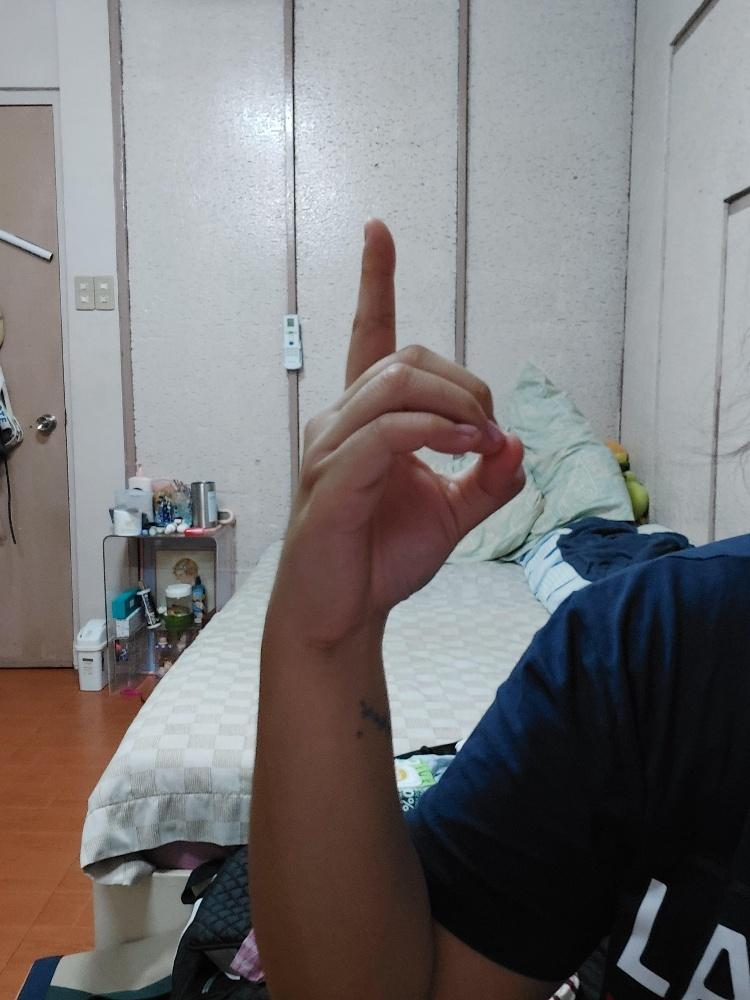d: (264, 216, 525, 643)
